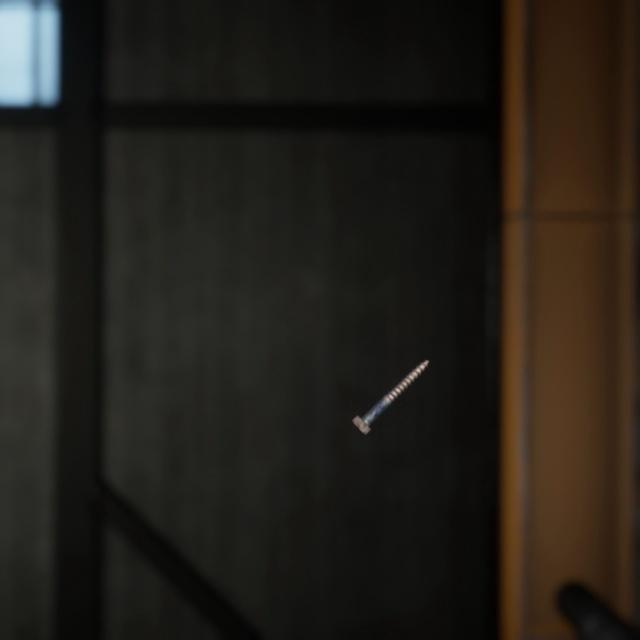bolt: (347, 336, 433, 421)
